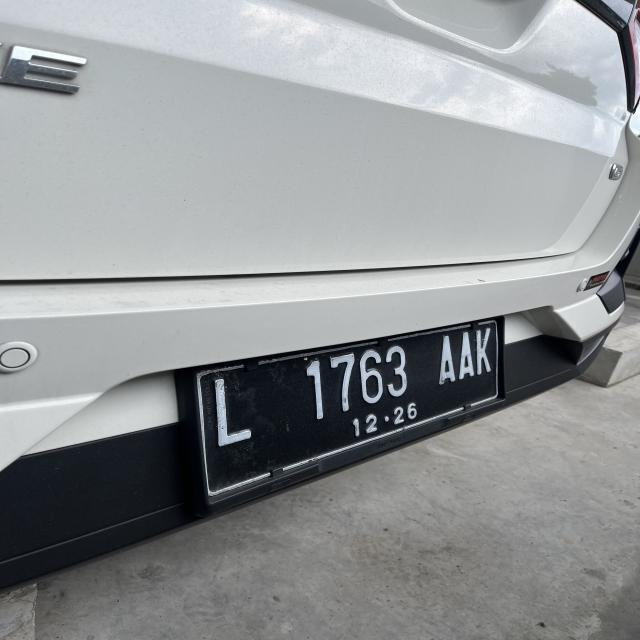1: (302, 359, 326, 424)
3: (386, 345, 408, 397)
6: (359, 349, 384, 406)
7: (330, 353, 357, 416)
A: (434, 333, 456, 386), (460, 331, 473, 381)
K: (476, 327, 492, 378)
L: (208, 378, 256, 448)
